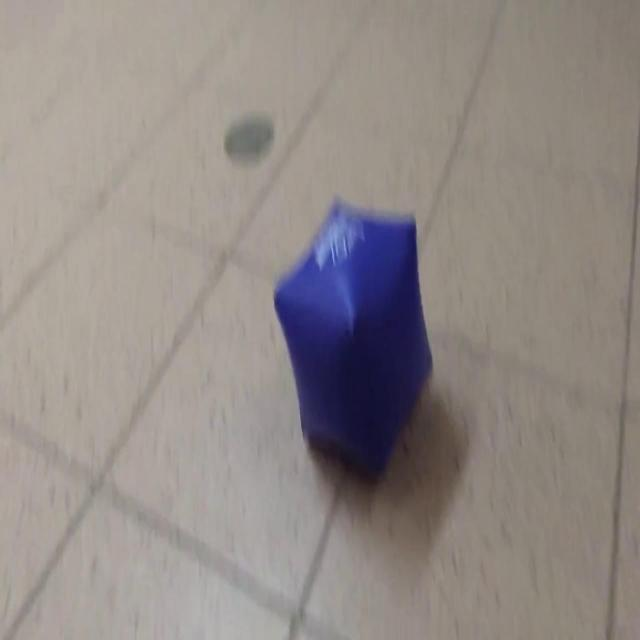frc_cube: (272, 194, 434, 473)
